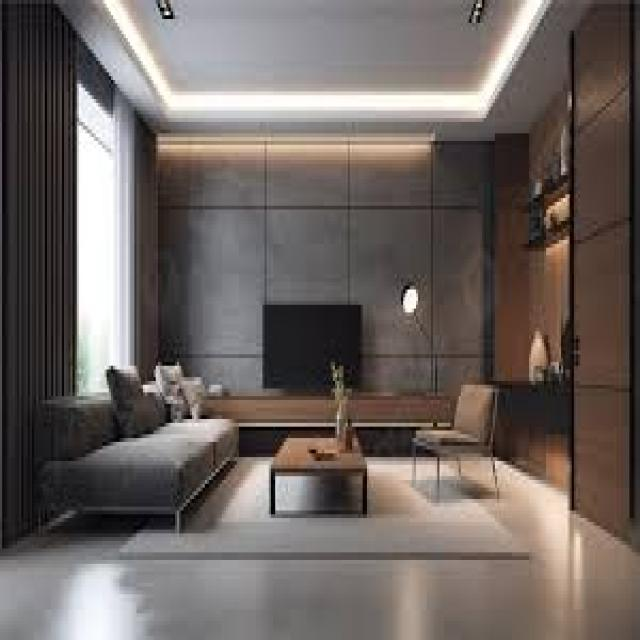Chair: (409, 378, 506, 502)
Sofa: (39, 338, 240, 535)
Table: (269, 418, 371, 511)
tv: (262, 302, 366, 387)
window: (19, 57, 161, 333)
